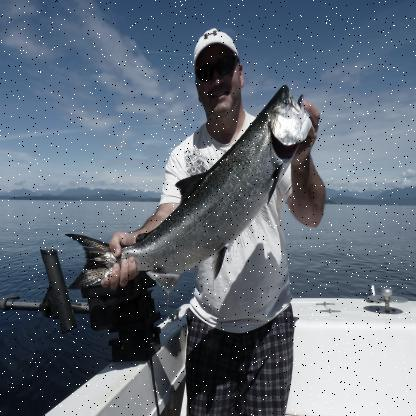fish: (66, 82, 314, 292)
